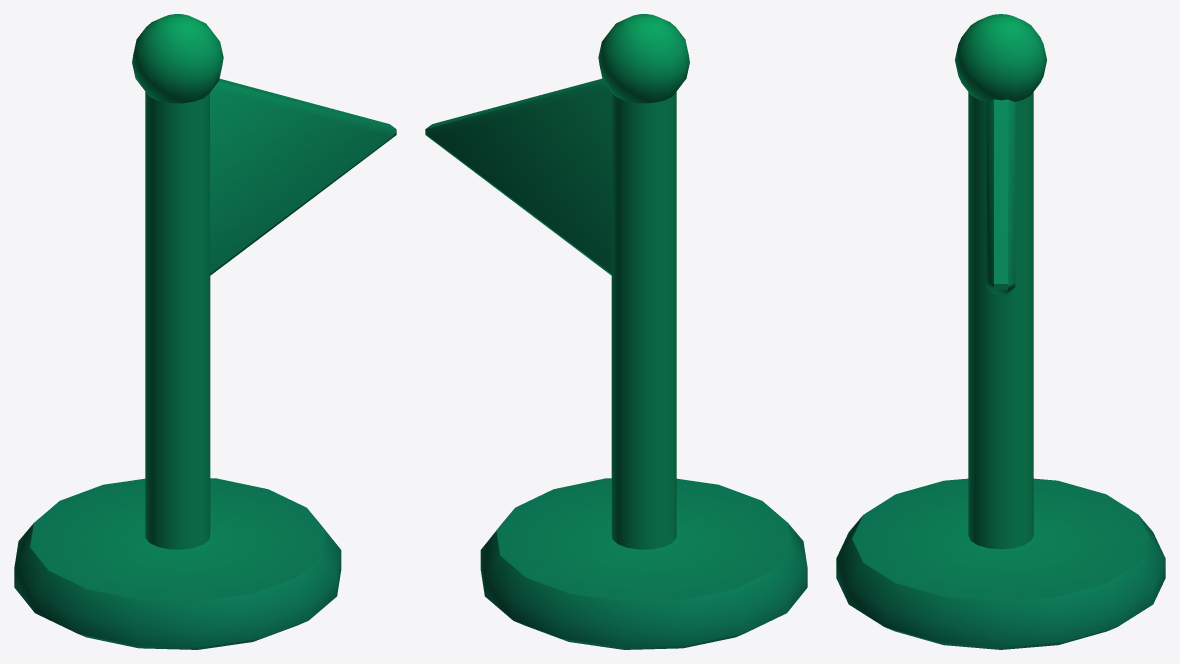
Rendered from flag_A_green.obj.
3 renders of one model, left to right at view 1: azimuth 30°, elevation 25°; view 2: azimuth 150°, elevation 25°; view 3: azimuth 270°, elevation 25°, orthographic.
Parts seen in each view (by area): view 1: flag_A_green; view 2: flag_A_green; view 3: flag_A_green.
Part boxes in pixels (x1,y1,x2,y2): flag_A_green: (14,14,396,649); flag_A_green: (425,14,807,649); flag_A_green: (836,14,1165,649).
Size of the model in its own units: 0.9404 by 1.43 by 0.75.
1 material, 1 textured.
